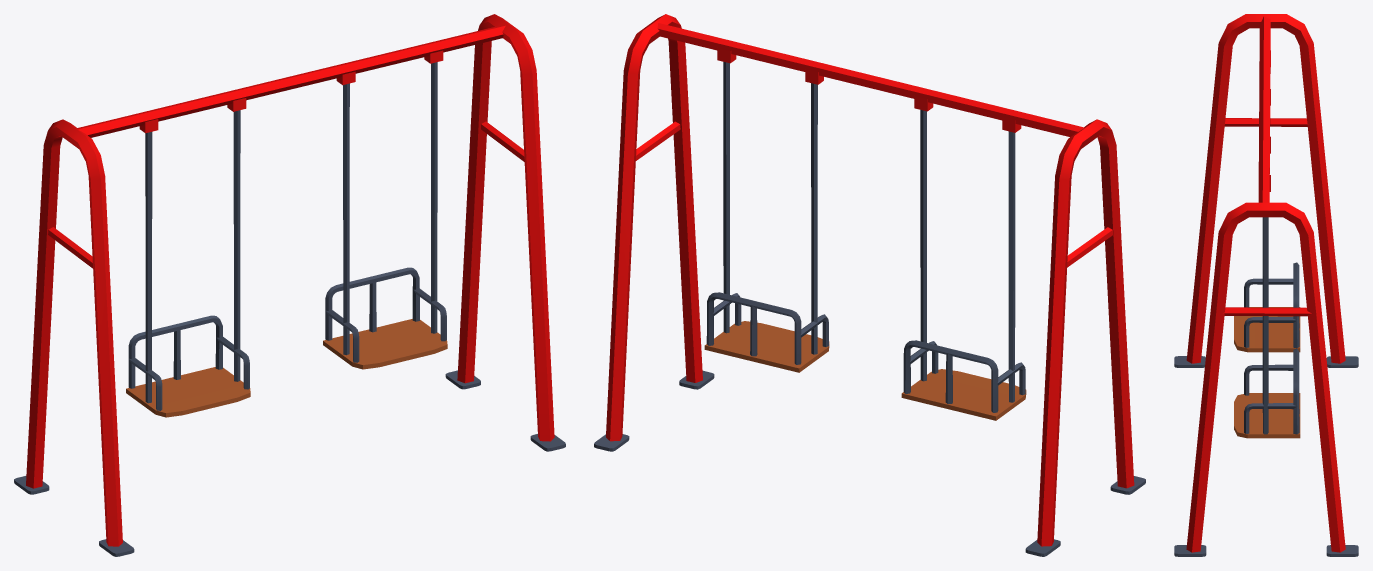
The model's file is SM_Swings_03.fbx.
The picture shows the model from 3 angles, left to right: view 1: azimuth 30°, elevation 25°; view 2: azimuth 150°, elevation 25°; view 3: azimuth 270°, elevation 25°; orthographic projection. The views are drawn at different scales.
Visible parts, largest first — view 1: SM_Swings_03; view 2: SM_Swings_03; view 3: SM_Swings_03.
Part boxes in pixels (box(x1,y1,x2,y2)): SM_Swings_03: box(14, 14, 565, 556); SM_Swings_03: box(594, 14, 1145, 556); SM_Swings_03: box(1174, 14, 1358, 556).
Bounding box in the file's own units: 307 × 253 × 121.
Materials: 1 (1 with a texture image).
